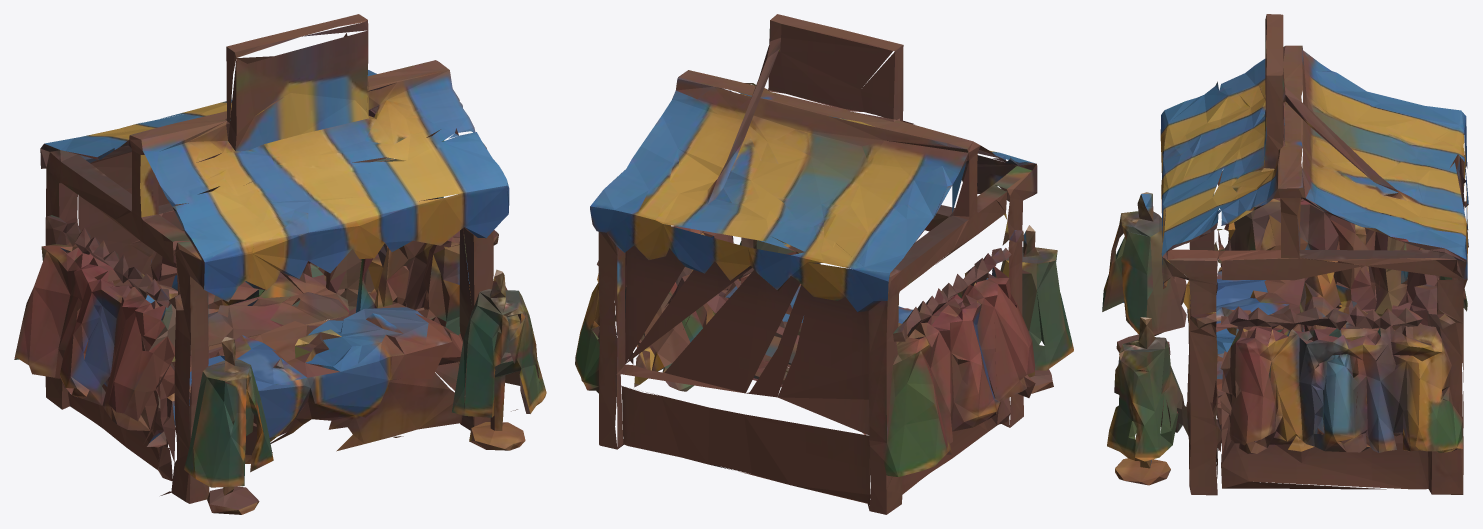
Rendered from shop_manyunya.glb.
3 views of the same model, side by side, from view 1: azimuth 30°, elevation 25°; view 2: azimuth 150°, elevation 25°; view 3: azimuth 270°, elevation 25° (orthographic). The views are drawn at different scales.
Parts seen in each view (by area): view 1: geometry_0; view 2: geometry_0; view 3: geometry_0.
Part boxes in pixels (x1,y1,x2,y2): geometry_0: [14, 14, 546, 514]; geometry_0: [575, 14, 1073, 514]; geometry_0: [1102, 14, 1468, 495].
Size of the model in its own units: 2 by 1.94 by 1.69.
Materials: 1 (1 with a texture image).
